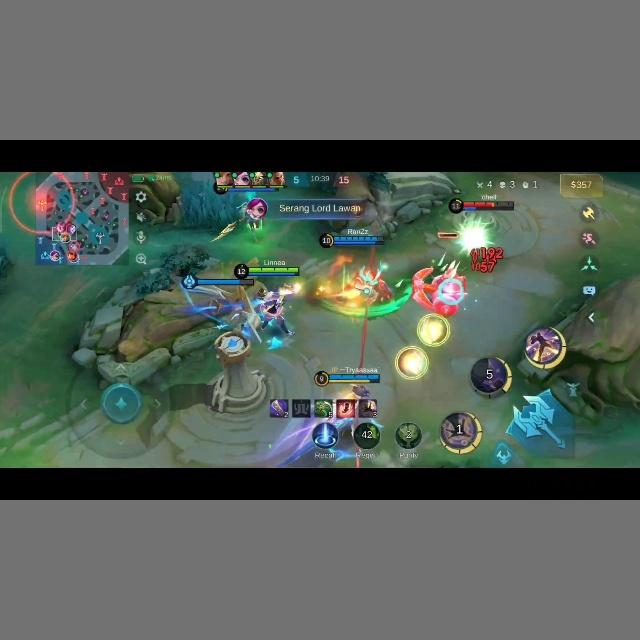hp_enemy: (446, 199, 515, 213), (438, 232, 460, 240)
hp_self: (313, 369, 382, 386), (189, 274, 269, 286), (328, 234, 384, 247), (246, 267, 299, 275)
minion_enemy: (469, 244, 504, 272)
